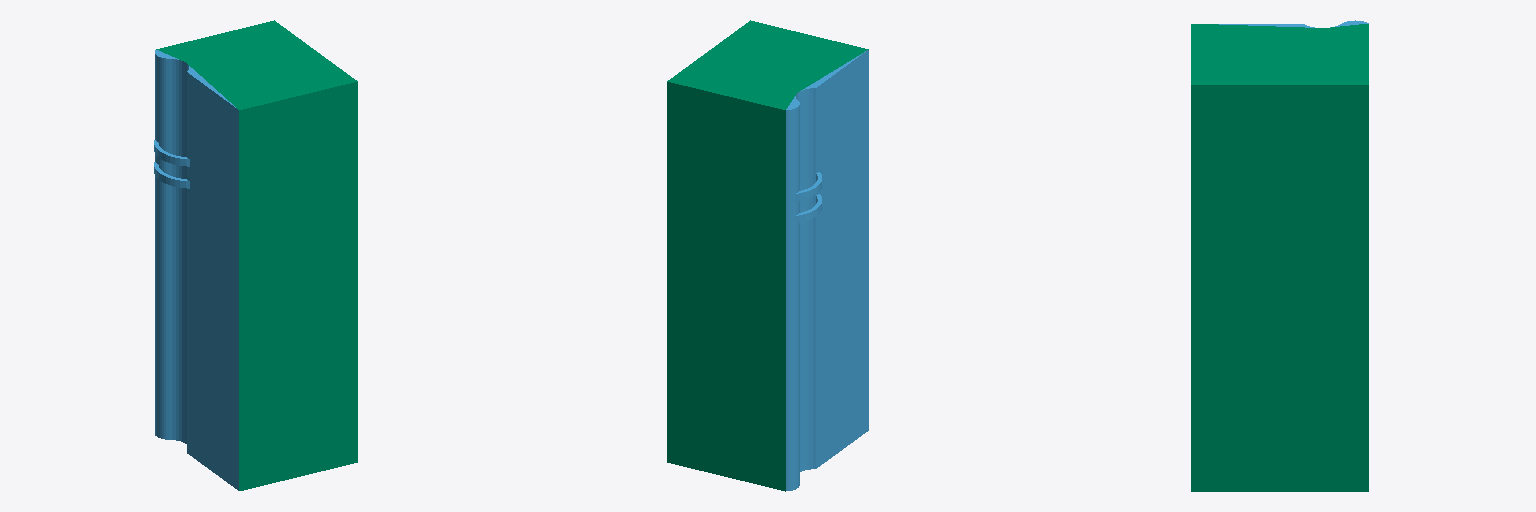
The robot description file, URDF, robot "partnet_58c878d494ecbbd62835d3f06aeb6e0":
<?xml version="1.0" ?>
<robot name="partnet_58c878d494ecbbd62835d3f06aeb6e0">
	<link name="base"/>
	<link name="link_0">
		<visual name="door_frame-10">
			<origin xyz="-0.34879218488171676 -0.916216 -0.2512854452924893"/>
			<geometry>
				<mesh filename="textured_objs/new-5.obj"/>
			</geometry>
		</visual>
		<visual name="handle-11">
			<origin xyz="-0.34879218488171676 -0.916216 -0.2512854452924893"/>
			<geometry>
				<mesh filename="textured_objs/original-2.obj"/>
			</geometry>
		</visual>
		<visual name="handle-12">
			<origin xyz="-0.34879218488171676 -0.916216 -0.2512854452924893"/>
			<geometry>
				<mesh filename="textured_objs/original-1.obj"/>
			</geometry>
		</visual>
		<collision>
			<origin xyz="-0.34879218488171676 -0.916216 -0.2512854452924893"/>
			<geometry>
				<mesh filename="textured_objs/new-5.obj"/>
			</geometry>
		</collision>
		<collision>
			<origin xyz="-0.34879218488171676 -0.916216 -0.2512854452924893"/>
			<geometry>
				<mesh filename="textured_objs/original-2.obj"/>
			</geometry>
		</collision>
		<collision>
			<origin xyz="-0.34879218488171676 -0.916216 -0.2512854452924893"/>
			<geometry>
				<mesh filename="textured_objs/original-1.obj"/>
			</geometry>
		</collision>
	</link>
	<joint name="joint_0" type="revolute">
		<origin xyz="0.34879218488171676 0.916216 0.2512854452924893"/>
		<axis xyz="0 1 0"/>
		<child link="link_0"/>
		<parent link="link_1"/>
		<limit lower="-0.0" upper="3.141592653589793"/>
	</joint>
	<link name="link_1">
		<visual name="frame-8">
			<origin xyz="0 0 0"/>
			<geometry>
				<mesh filename="textured_objs/new-4.obj"/>
			</geometry>
		</visual>
		<visual name="foot-4">
			<origin xyz="0 0 0"/>
			<geometry>
				<mesh filename="textured_objs/new-3.obj"/>
			</geometry>
		</visual>
		<visual name="foot-5">
			<origin xyz="0 0 0"/>
			<geometry>
				<mesh filename="textured_objs/new-2.obj"/>
			</geometry>
		</visual>
		<visual name="foot-6">
			<origin xyz="0 0 0"/>
			<geometry>
				<mesh filename="textured_objs/new-1.obj"/>
			</geometry>
		</visual>
		<visual name="foot-7">
			<origin xyz="0 0 0"/>
			<geometry>
				<mesh filename="textured_objs/new-0.obj"/>
			</geometry>
		</visual>
		<collision>
			<origin xyz="0 0 0"/>
			<geometry>
				<mesh filename="textured_objs/new-4.obj"/>
			</geometry>
		</collision>
		<collision>
			<origin xyz="0 0 0"/>
			<geometry>
				<mesh filename="textured_objs/new-3.obj"/>
			</geometry>
		</collision>
		<collision>
			<origin xyz="0 0 0"/>
			<geometry>
				<mesh filename="textured_objs/new-2.obj"/>
			</geometry>
		</collision>
		<collision>
			<origin xyz="0 0 0"/>
			<geometry>
				<mesh filename="textured_objs/new-1.obj"/>
			</geometry>
		</collision>
		<collision>
			<origin xyz="0 0 0"/>
			<geometry>
				<mesh filename="textured_objs/new-0.obj"/>
			</geometry>
		</collision>
	</link>
	<joint name="joint_1" type="fixed">
		<origin rpy="1.570796326794897 0 -1.570796326794897" xyz="0 0 0"/>
		<child link="link_1"/>
		<parent link="base"/>
	</joint>
</robot>

--- What the picture shows (computed from the rendered views, not written in the file) ---
The picture shows the robot from 3 angles, left to right: view 1: azimuth 30°, elevation 25°; view 2: azimuth 150°, elevation 25°; view 3: azimuth 270°, elevation 25°; orthographic projection.
Model partnet_58c878d494ecbbd62835d3f06aeb6e0 with 3 links and 2 joints (1 revolute, 1 fixed), rooted at base, posed all joints at 0.
Links seen in each view (by area): view 1: link_1, link_0; view 2: link_1, link_0; view 3: link_1.
Link boxes in pixels (x1=…): link_1: x1=156, y1=20, x2=357, y2=490; link_0: x1=154, y1=50, x2=238, y2=490; link_1: x1=667, y1=20, x2=868, y2=491; link_0: x1=786, y1=50, x2=868, y2=490; link_1: x1=1191, y1=24, x2=1368, y2=491.
Bounding box of the posed robot: 0.6529 × 0.7111 × 1.8 m (x, y, z).
Meshes: 8 distinct files referenced, 8 mesh visuals loaded (8 OBJ).
